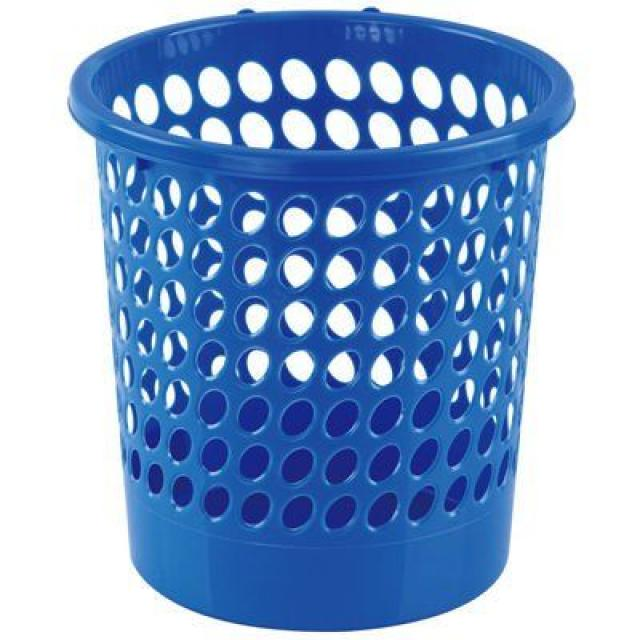Dustbin: (63, 1, 580, 639)
